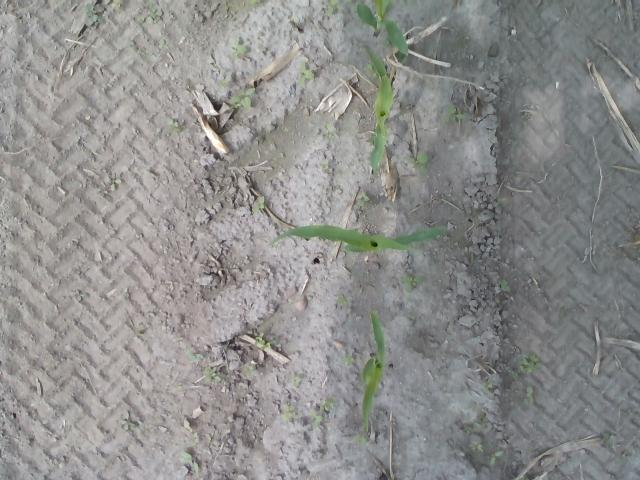Maize: (270, 221, 453, 256), (363, 45, 396, 171), (358, 310, 387, 435), (354, 0, 408, 57)
Weeds: (228, 86, 256, 110), (178, 450, 202, 478), (402, 151, 432, 171), (80, 4, 104, 26), (518, 352, 542, 374), (442, 102, 466, 122), (296, 63, 316, 87), (144, 0, 162, 24), (400, 273, 425, 290), (102, 175, 123, 194), (324, 0, 347, 16), (205, 366, 222, 382), (119, 419, 139, 432), (230, 44, 248, 58), (252, 194, 266, 212), (489, 449, 503, 466), (496, 279, 512, 293), (256, 335, 272, 349), (186, 350, 208, 359), (468, 440, 484, 452), (164, 116, 180, 128), (282, 407, 296, 420), (356, 192, 368, 207), (525, 386, 536, 402), (310, 412, 324, 424), (320, 400, 336, 410), (338, 294, 350, 306), (242, 364, 254, 376), (290, 375, 302, 386), (342, 355, 354, 366), (247, 0, 260, 7), (484, 382, 494, 390)
